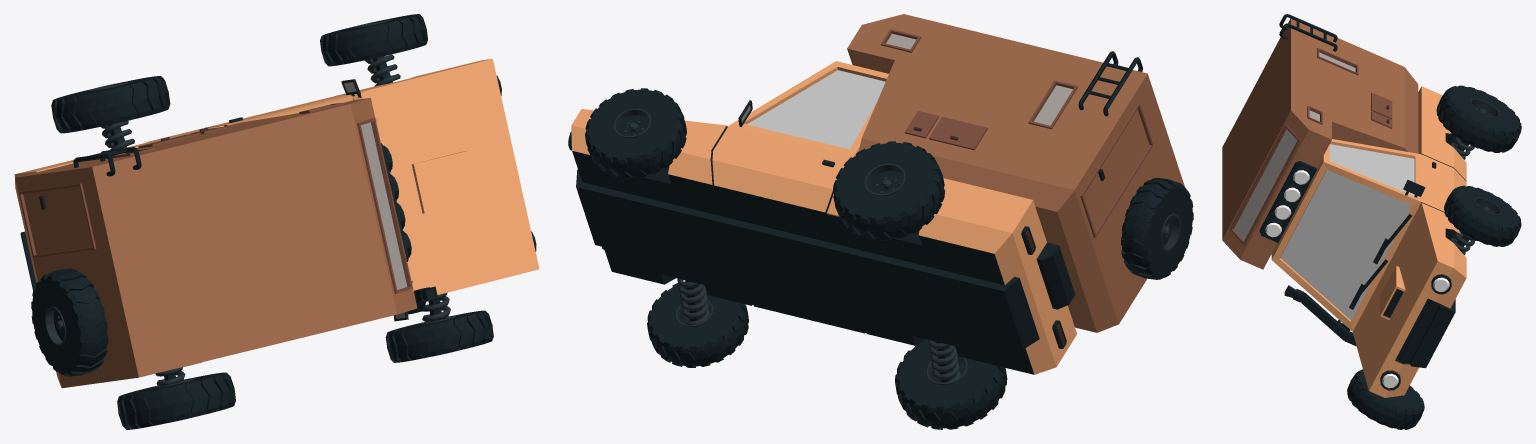
Rendered from jeep.obj.
3 views of the same model, side by side, from view 1: azimuth 30°, elevation 25°; view 2: azimuth 150°, elevation 25°; view 3: azimuth 270°, elevation 25° (orthographic). The views are drawn at different scales.
Visible parts, largest first — view 1: Frame_Brown, Frame_Orange, Frame_Black, Rear_wheel.001_Black, Rear_wheel_Black, Front_wheel.001_Black, Front_wheel_Black, Frame_Dark_brown, Frame_Glass_trailer, Spring_Light_black, Frame_Light_black, Spring.001_Light_black (+1 smaller); view 2: Frame_Black, Frame_Brown, Frame_Orange, Rear_wheel_Black, Front_wheel_Black, Rear_wheel.001_Black, Frame_Glass, Front_wheel.001_Black, Frame_Dark_brown, Frame_Glass_trailer, Spring.002_Light_black, Spring.003_Light_black (+1 smaller); view 3: Frame_Brown, Frame_Orange, Frame_Glass, Frame_Black, Rear_wheel_Black, Front_wheel_Black, Front_wheel.001_Black, Frame_Dark_brown, Frame_Glass_trailer, Frame_Light, Rear_wheel_Light_black, Spring_Light_black.
Part boxes in pixels (left/top/right/bottom): Frame_Brown: left=15, top=97, right=417, bottom=388; Frame_Orange: left=14, top=58, right=539, bottom=294; Frame_Black: left=20, top=75, right=536, bottom=376; Rear_wheel.001_Black: left=117, top=372, right=235, bottom=429; Rear_wheel_Black: left=51, top=76, right=170, bottom=133; Front_wheel.001_Black: left=385, top=310, right=493, bottom=362; Front_wheel_Black: left=320, top=14, right=427, bottom=66; Frame_Dark_brown: left=18, top=102, right=412, bottom=368; Frame_Glass_trailer: left=344, top=82, right=407, bottom=318; Spring_Light_black: left=365, top=54, right=400, bottom=86; Frame_Light_black: left=45, top=306, right=66, bottom=345; Spring.001_Light_black: left=101, top=121, right=134, bottom=149; Frame_Black: left=568, top=51, right=1193, bottom=374; Frame_Brown: left=847, top=14, right=1184, bottom=332; Frame_Orange: left=571, top=61, right=1076, bottom=374; Rear_wheel_Black: left=833, top=141, right=945, bottom=240; Front_wheel_Black: left=585, top=88, right=686, bottom=178; Rear_wheel.001_Black: left=895, top=339, right=1007, bottom=429; Frame_Glass: left=747, top=70, right=885, bottom=149; Front_wheel.001_Black: left=647, top=283, right=748, bottom=367; Frame_Dark_brown: left=880, top=29, right=1153, bottom=237; Frame_Glass_trailer: left=741, top=33, right=1072, bottom=125; Spring.002_Light_black: left=677, top=278, right=709, bottom=325; Spring.003_Light_black: left=928, top=340, right=960, bottom=382; Frame_Brown: left=1222, top=18, right=1418, bottom=269; Frame_Orange: left=1271, top=86, right=1466, bottom=397; Frame_Glass: left=1280, top=144, right=1414, bottom=320; Frame_Black: left=1259, top=14, right=1466, bottom=390; Rear_wheel_Black: left=1436, top=85, right=1521, bottom=152; Front_wheel_Black: left=1444, top=185, right=1521, bottom=246; Front_wheel.001_Black: left=1347, top=369, right=1424, bottom=429; Frame_Dark_brown: left=1229, top=48, right=1392, bottom=245; Frame_Glass_trailer: left=1233, top=52, right=1355, bottom=240; Frame_Light: left=1265, top=170, right=1449, bottom=388; Rear_wheel_Light_black: left=1470, top=98, right=1499, bottom=118; Spring_Light_black: left=1450, top=230, right=1475, bottom=255.
Bounding box in the file's own units: 4.16 × 2.68 × 2.73.
